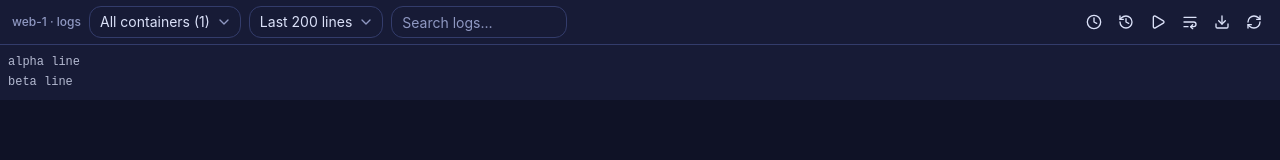
Scenario: LogsView › filters lines with the search box
Expected: the text "alpha line" is shown, x1=8 y1=55 x2=80 y2=69
In the field labelled "Search logs": (479, 22) x1=391 y1=6 x2=567 y2=38, type "beta"
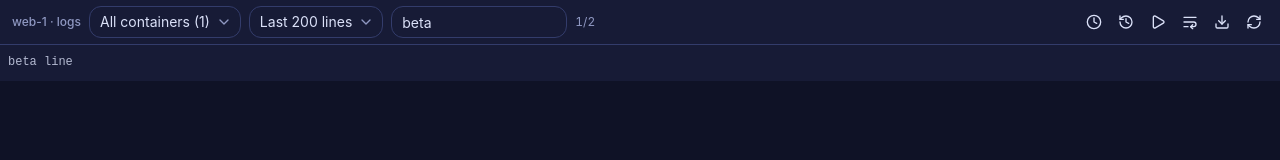
Expected: the text "alpha line" is gone
Expected: the text "beta line" is shown, x1=8 y1=55 x2=73 y2=69
